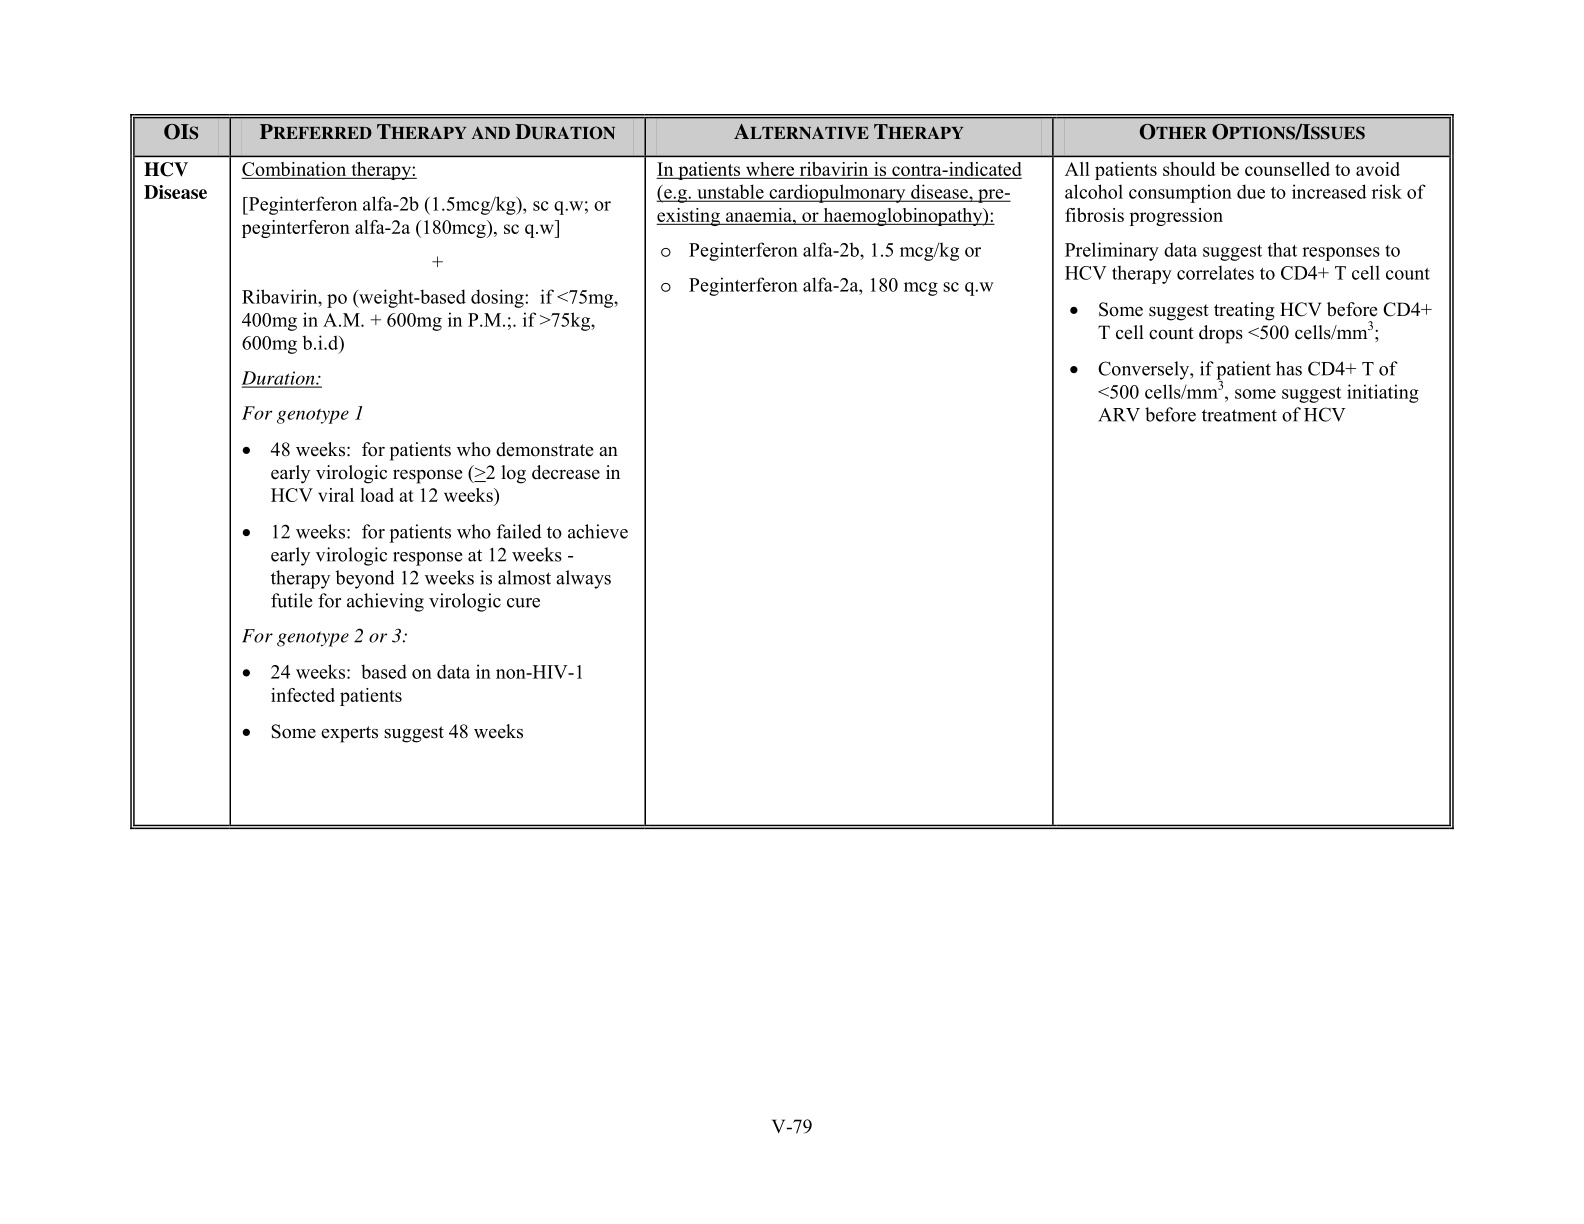full_lined: (125, 105, 1458, 836)
